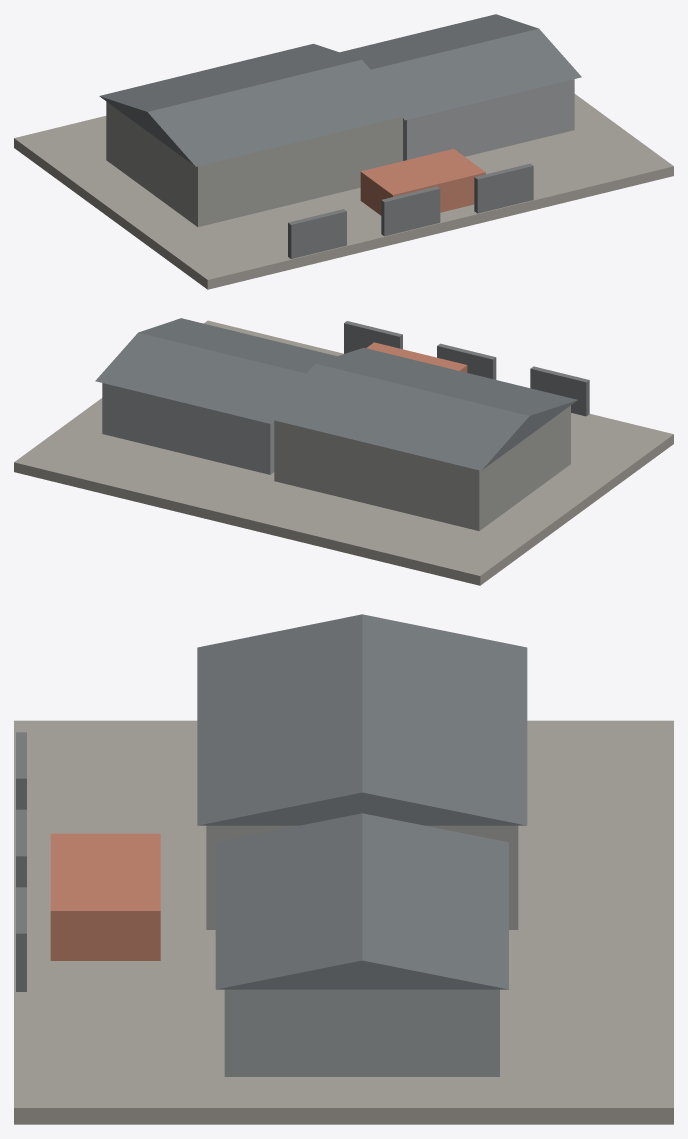
File: ind_manufatura.glb
3 renders of one model, top to bottom at view 1: azimuth 30°, elevation 25°; view 2: azimuth 150°, elevation 25°; view 3: azimuth 270°, elevation 25°, orthographic. The views are drawn at different scales.
Parts seen in each view (by area): view 1: ind_manufatura; view 2: ind_manufatura; view 3: ind_manufatura.
Part boxes in pixels (box(x1,y1,x2,y2)): ind_manufatura: box(14, 14, 673, 289); ind_manufatura: box(14, 318, 673, 585); ind_manufatura: box(14, 614, 673, 1124).
Size of the model in its own units: 1 by 0.19 by 0.72.
